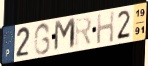2: (15, 25, 33, 61), (116, 10, 132, 41)
G: (33, 21, 52, 56)
H: (96, 10, 115, 46)
M: (53, 16, 77, 53)
R: (74, 16, 94, 50)
